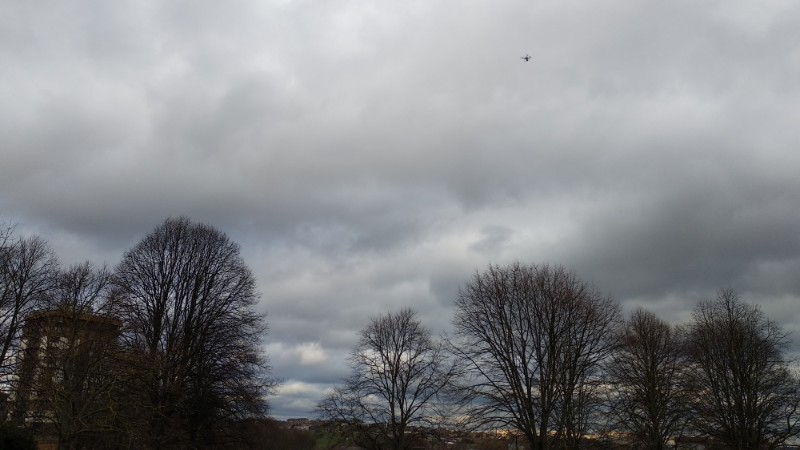drone: (521, 52, 533, 62)
